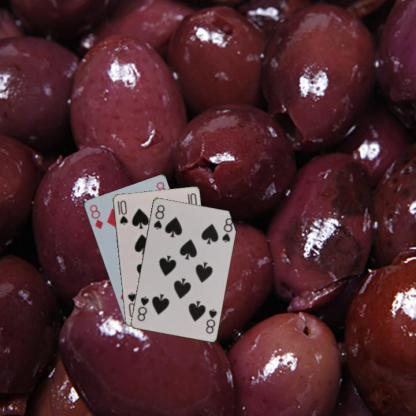10s: (114, 198, 129, 226)
8d: (87, 202, 104, 231)
8s: (151, 202, 166, 231), (203, 306, 218, 335)
